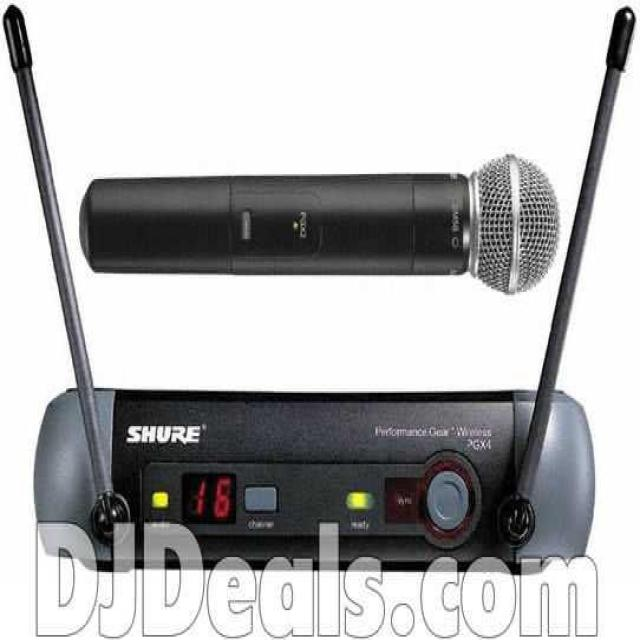microphone: (96, 148, 562, 294)
